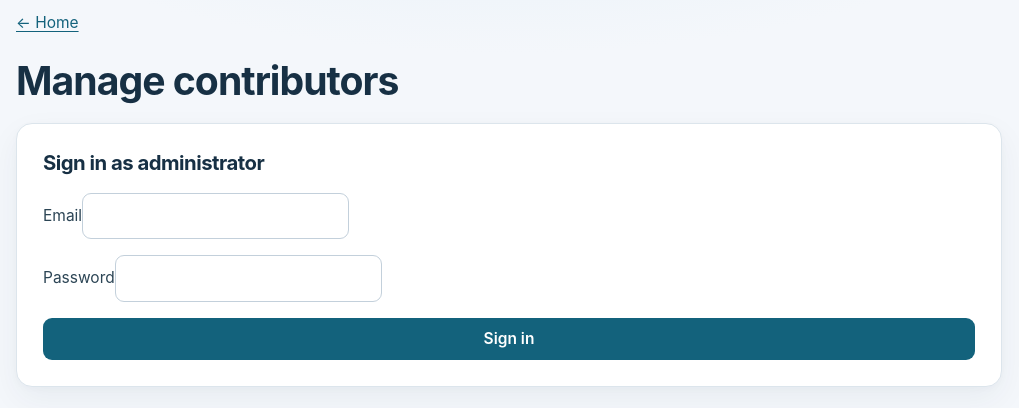
Test: shows the server 403 message when a stale admin session is denied
The width and height of the screenshot is (1019, 408).
Type "student@example.test" into the field labelled "Email" at (216, 216), box [82,193,349,239]
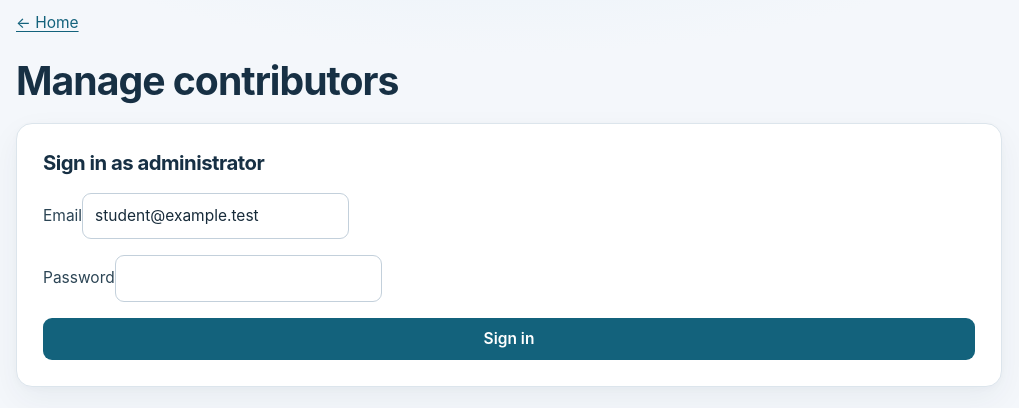
Type "Fixture123" into the password field labelled "Password" at (248, 279), box [115,255,382,302]
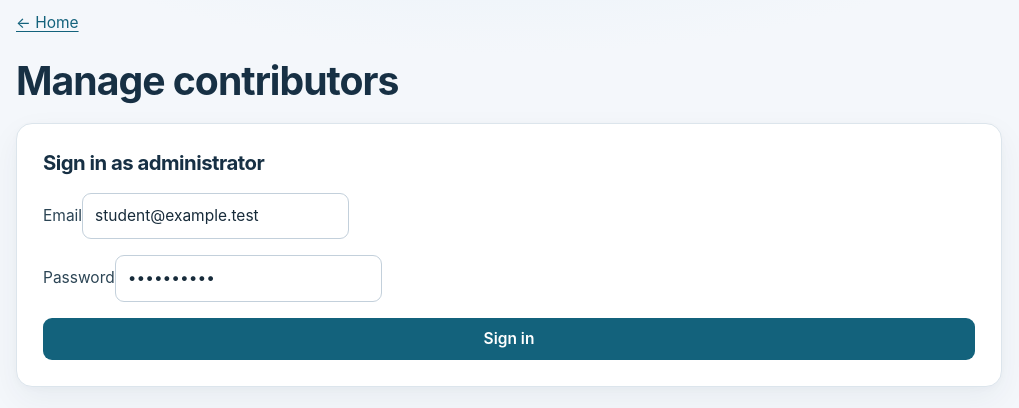
Click the button "Sign in" at (509, 339), box [43,318,975,360]
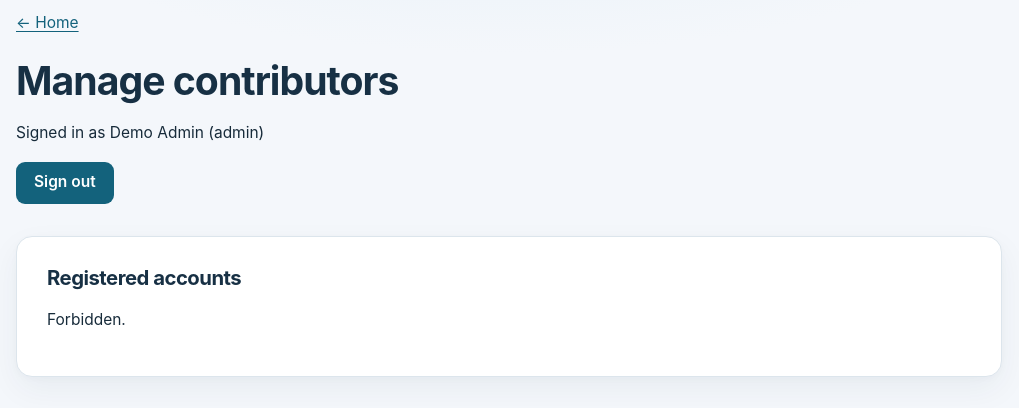
expect the message reads "Forbidden.": met, box [47,310,126,329]
